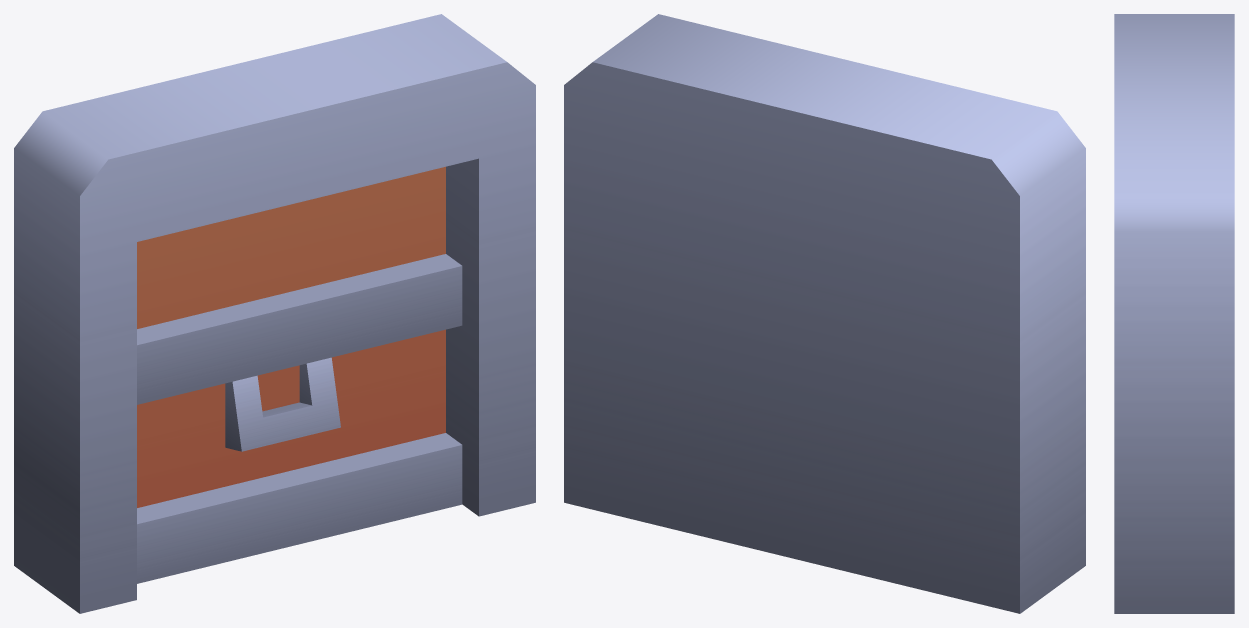
File: gate.glb
3 views of the same model, side by side, from view 1: azimuth 30°, elevation 25°; view 2: azimuth 150°, elevation 25°; view 3: azimuth 270°, elevation 25° (orthographic). The views are drawn at different scales.
Parts seen in each view (by area): view 1: door; view 2: door; view 3: door.
Part boxes in pixels (bbox=[...]): door: bbox=[14, 14, 535, 613]; door: bbox=[564, 14, 1085, 613]; door: bbox=[1114, 14, 1234, 613].
Size of the model in its own units: 0.8 by 0.75 by 0.2.
1 material, 1 textured.
